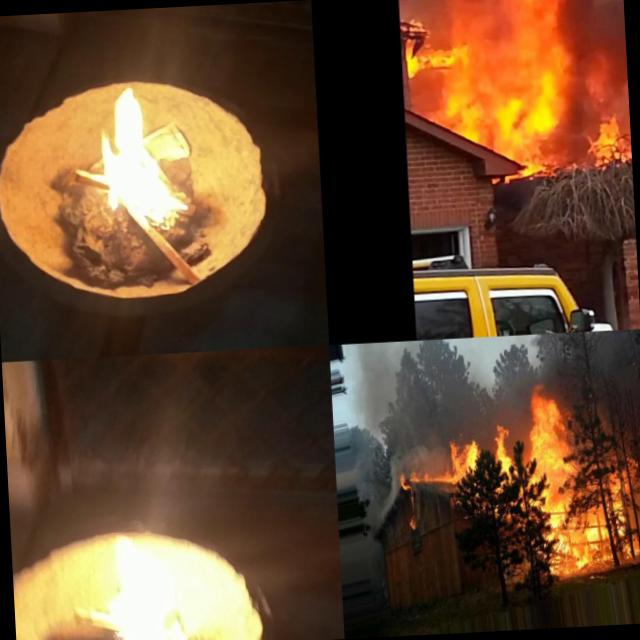fire: (399, 0, 595, 175), (87, 524, 233, 640), (93, 77, 207, 222), (529, 385, 586, 581), (578, 452, 640, 572), (593, 104, 632, 165), (449, 428, 486, 487), (492, 412, 518, 476), (399, 471, 453, 495), (407, 508, 418, 536)
smoke: (342, 338, 490, 434), (573, 329, 640, 423), (585, 0, 629, 105), (485, 336, 528, 414), (386, 430, 452, 474), (526, 332, 576, 388), (354, 434, 389, 506), (371, 504, 392, 536), (388, 474, 400, 503)
